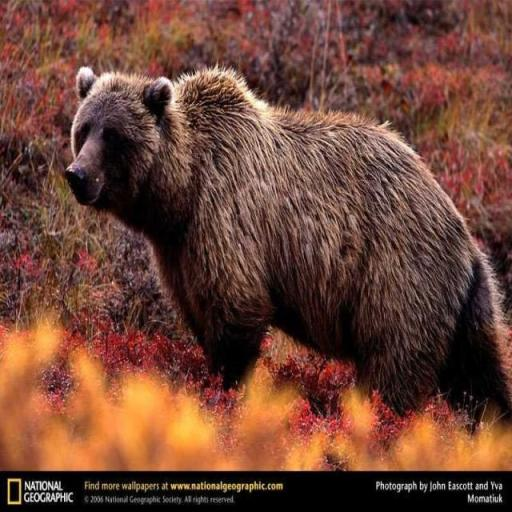Bear: (64, 62, 510, 434)
